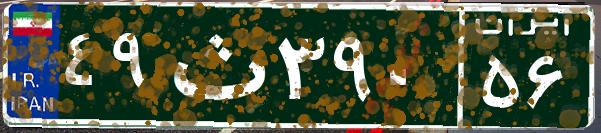0: (385, 28, 445, 110)
3: (273, 28, 330, 110)
4: (57, 26, 110, 107)
5: (475, 38, 525, 113)
6: (525, 38, 570, 115)
9: (330, 28, 385, 110), (110, 28, 158, 105)
ث: (158, 15, 273, 115)
